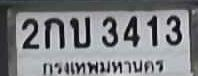1: (146, 14, 156, 46)
2: (21, 17, 38, 48)
3: (165, 14, 181, 45), (101, 16, 117, 46)
4: (123, 15, 138, 46)
A01: (44, 17, 64, 48)
A26: (69, 16, 90, 47)
BKK: (37, 56, 167, 76)
